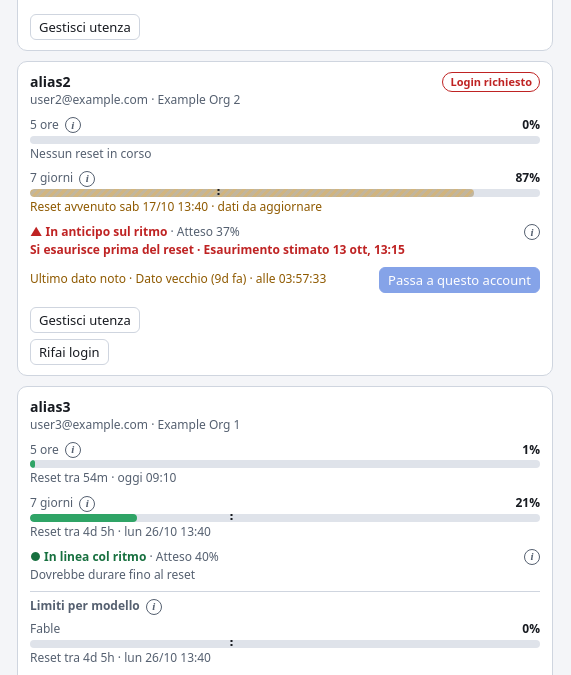
Scenario: Rifai login (F21) › link con «Copia link», codice inviato e mai mostrato, esito e ritorno all’utenza di prima
The width and height of the screenshot is (571, 675).
(page scrolled)
Step 1. Click the button with aria-label "Rifai login di " → (69, 352), box [30,339,108,365]
(page scrolled)
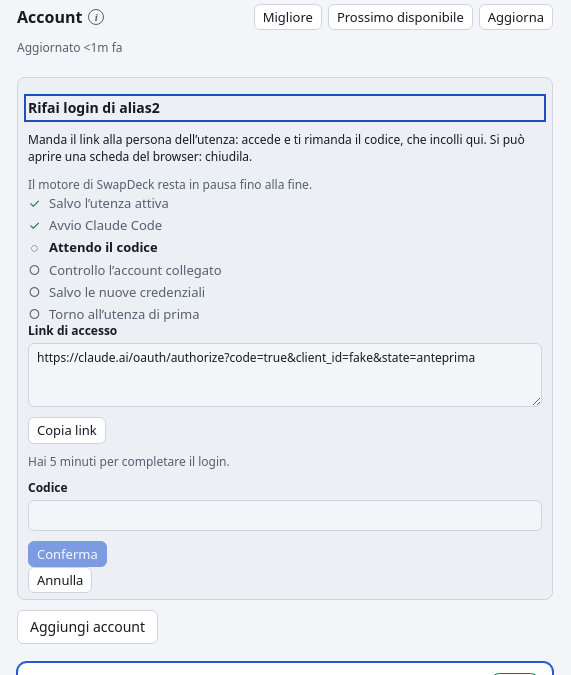
Check: the text "si può aprire una scheda del browser: chiudila" is shown, box [28,131,525,164]
Step 2. Click the button "Copia link" → (67, 430), box [28,417,106,444]
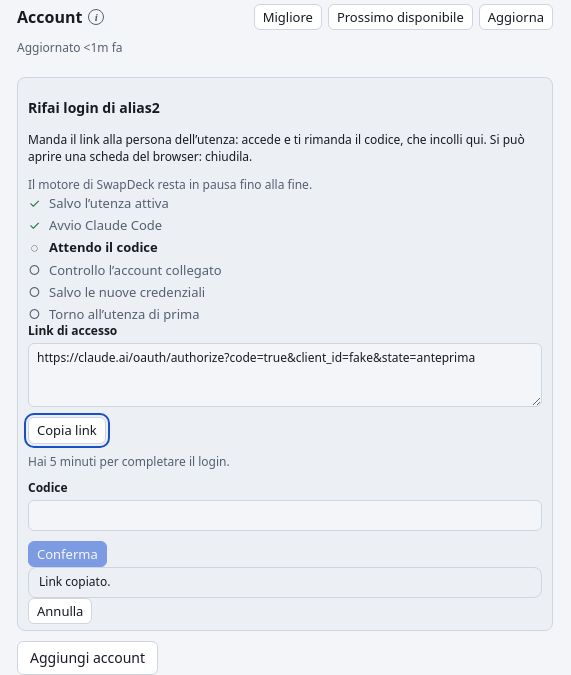
Check: the text "Hai 5 minuti per completare il login." is shown, box [28,453,230,470]
Check: the text "Link copiato." is shown, box [28,567,542,598]
Step 3. Type "CODICE-SEGRETO#1" into the field labelled "Codice" → (285, 516), box [28,500,542,531]
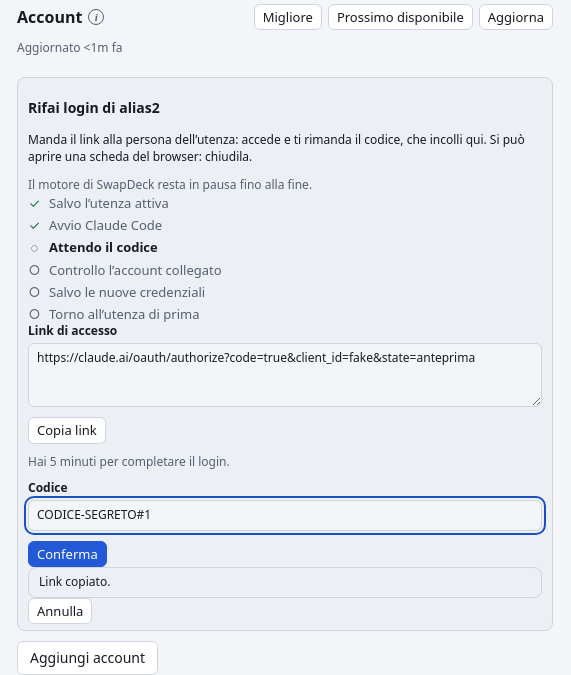
Step 4. Click the button "Conferma" → (67, 554), box [28,541,107,567]
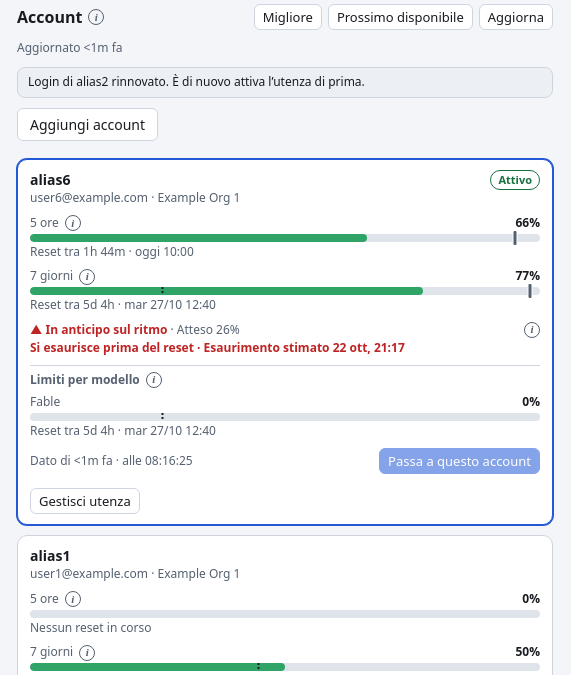
Check: the text "CODICE-SEGRETO" is not shown
Check: the text "Login di alias2 rinnovato. È di nuovo attiva l’utenza di prima." is shown, box [17,67,553,98]
Check: the heading "Rifai login di " is gone
